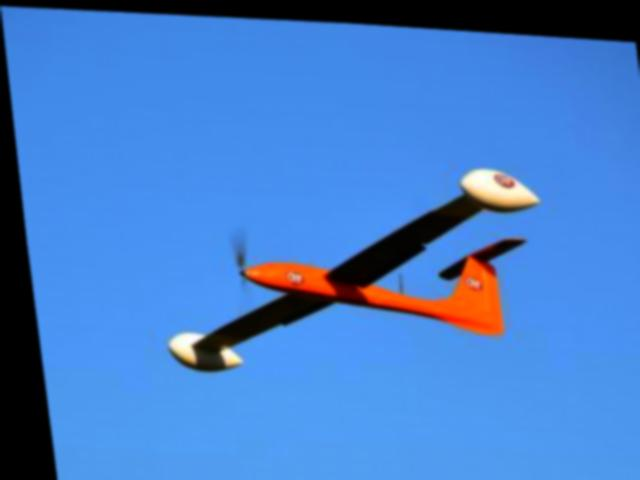uav: (137, 141, 555, 390)
